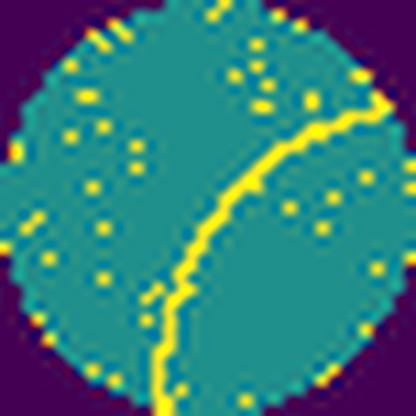Scratch: (143, 101, 394, 414)
